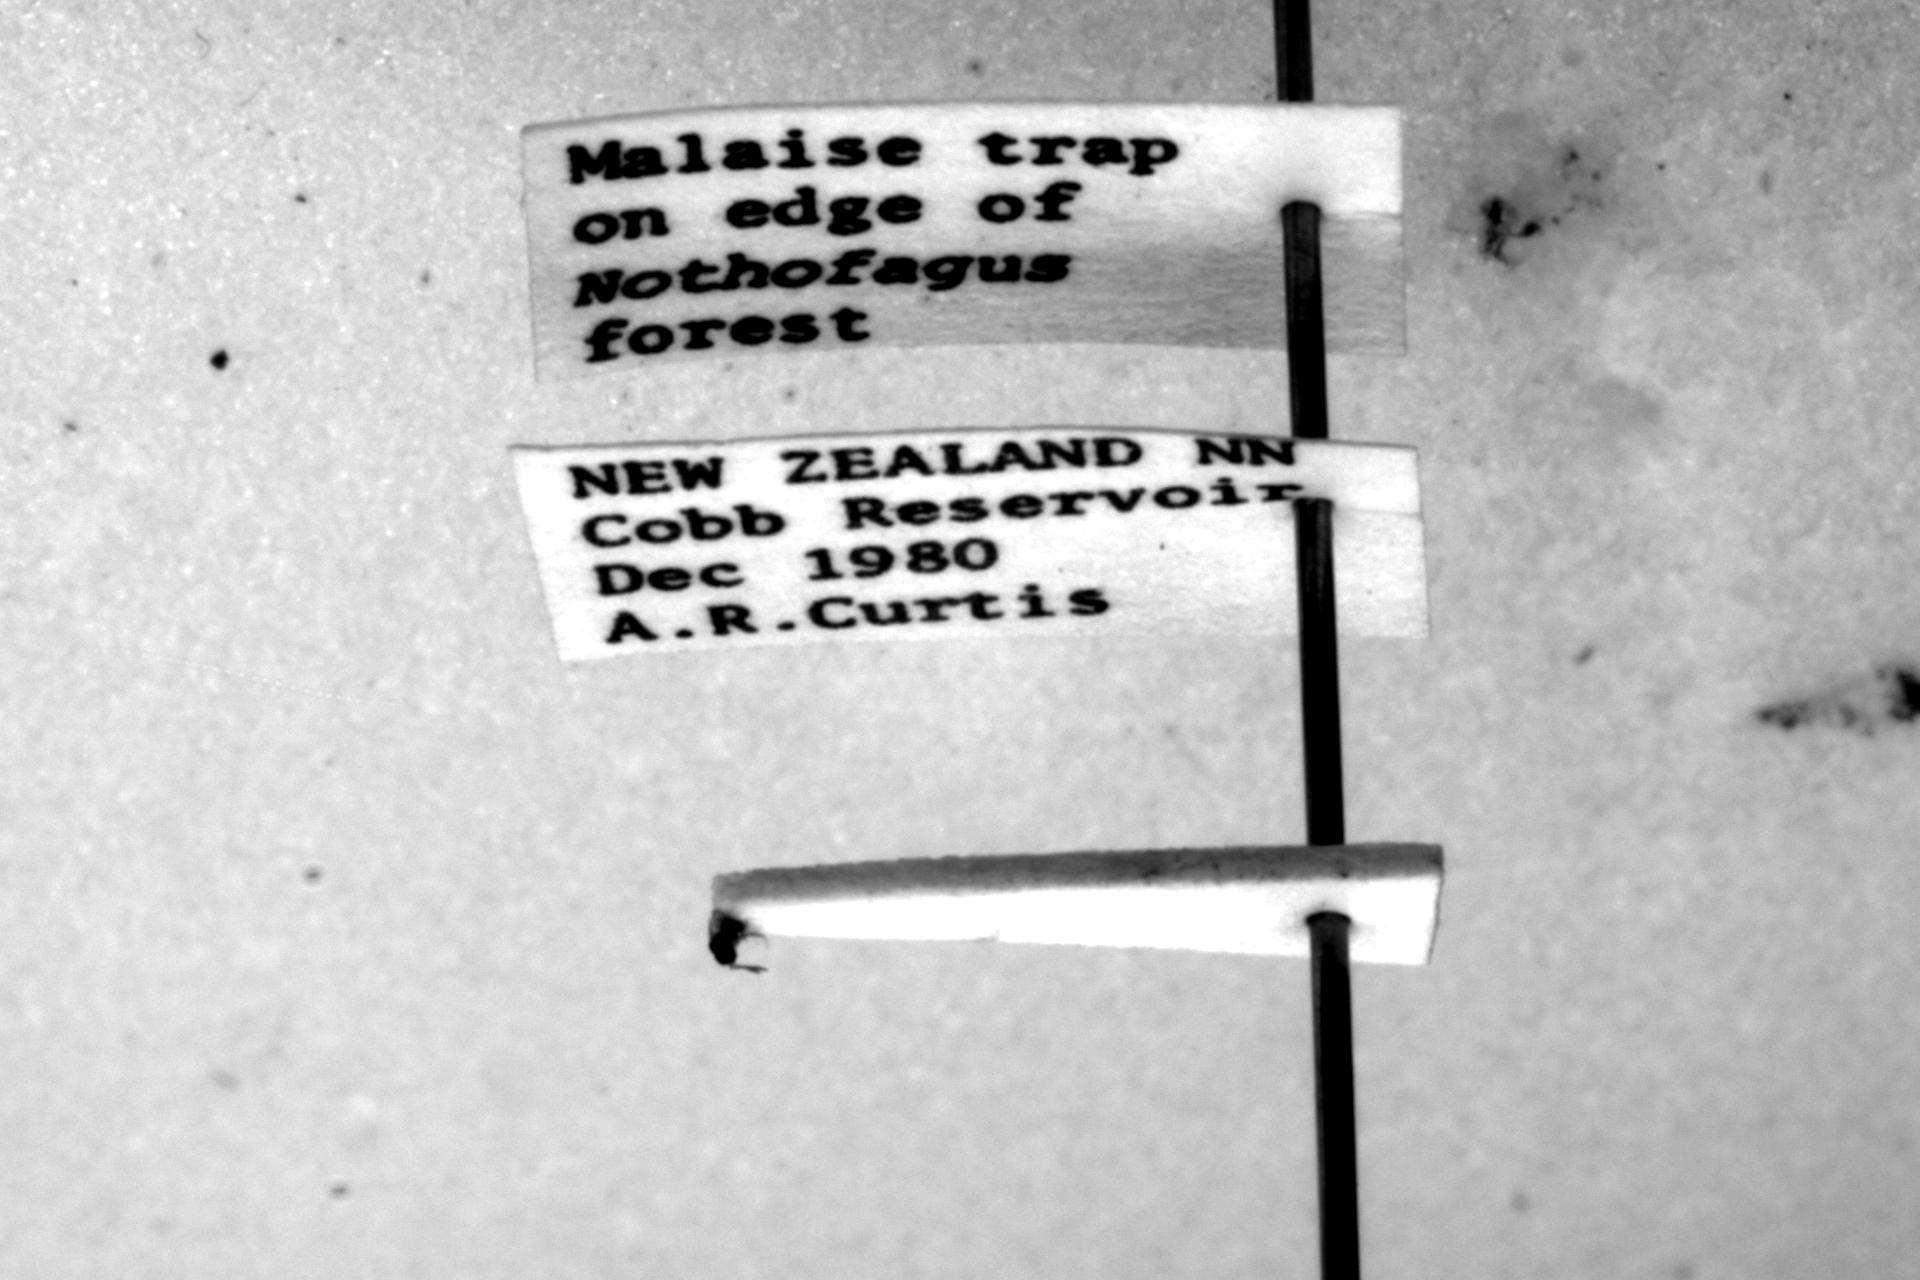typed_label: (526, 101, 1406, 379), (514, 427, 1429, 660)
